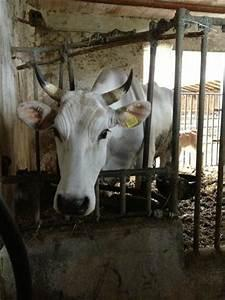cow: (24, 44, 175, 219)
